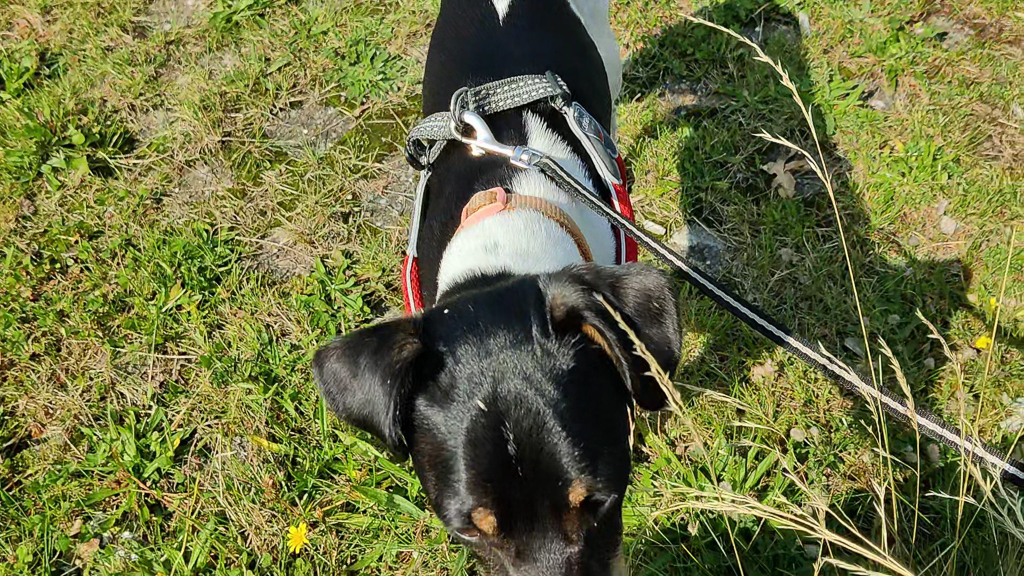Dog: (296, 0, 708, 576)
